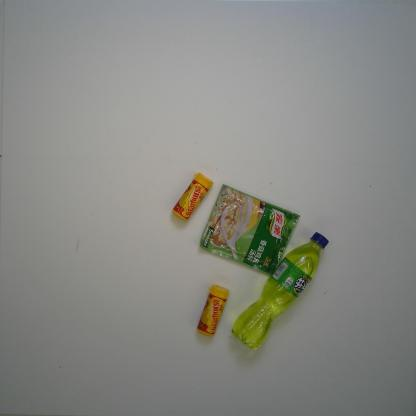Candy: (172, 172, 214, 221), (196, 284, 229, 337)
Drink: (230, 231, 330, 351)
Seasoner: (198, 184, 301, 276)
